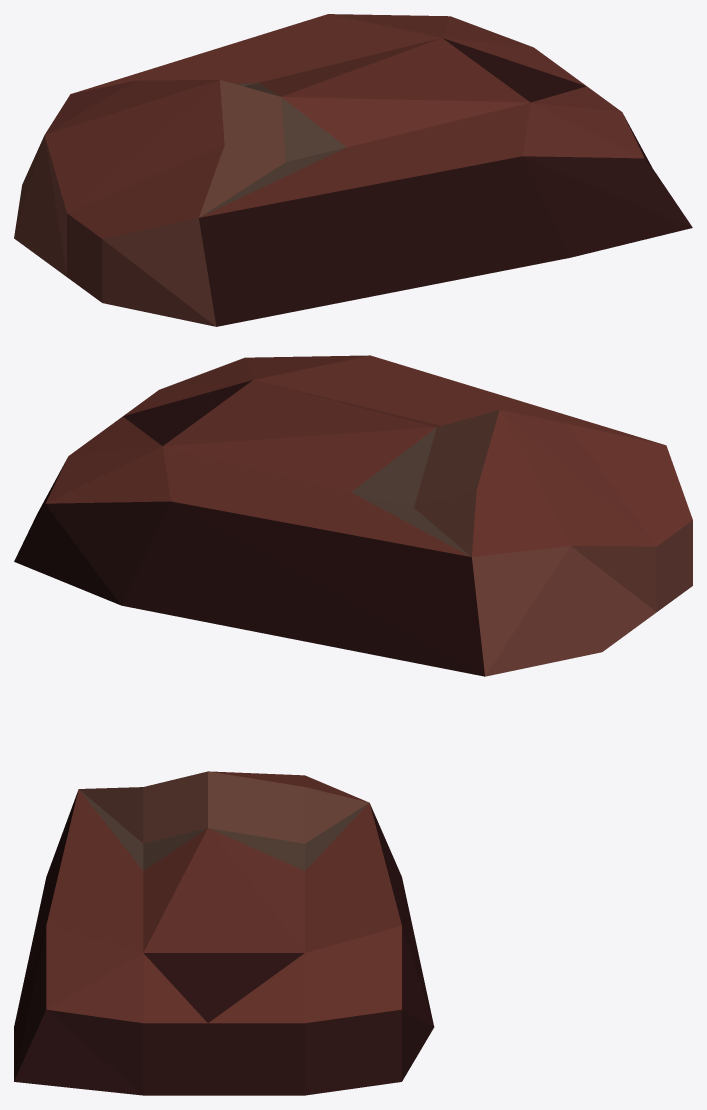
Rendered from rune-pouch.gltf.
3 renders of one model, top to bottom at view 1: azimuth 30°, elevation 25°; view 2: azimuth 150°, elevation 25°; view 3: azimuth 270°, elevation 25°, orthographic. The views are drawn at different scales.
Size of the model in its own units: 18 by 5 by 21.
1 material, 1 textured.
